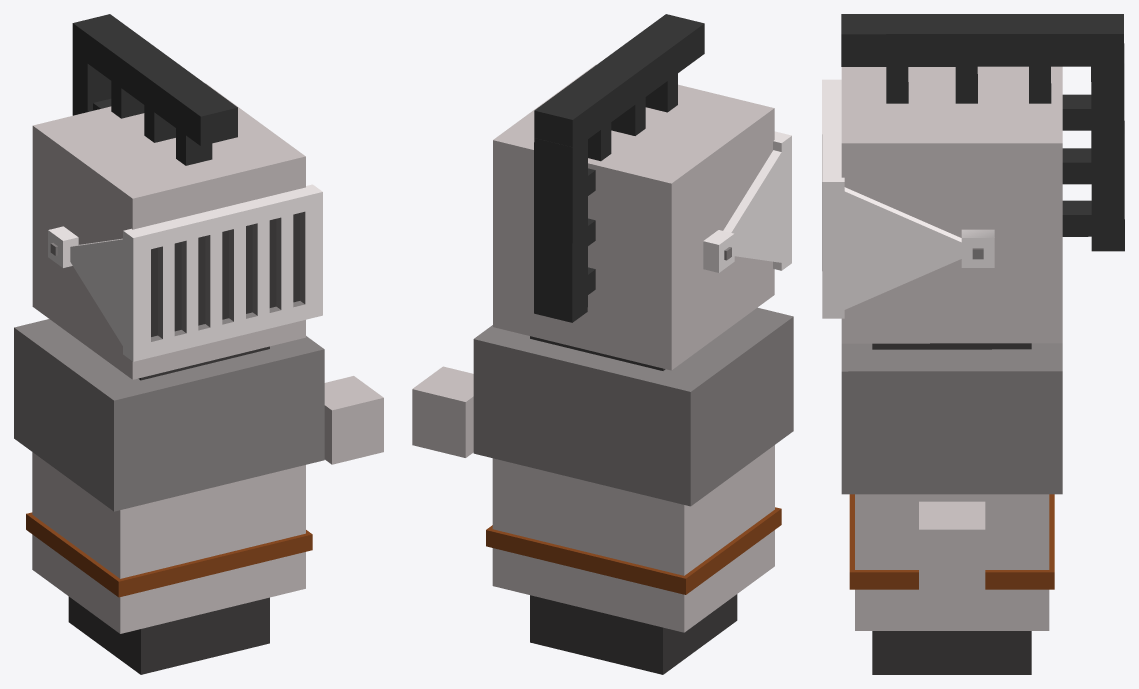
Rendered from hito.obj.
3 views of the same model, side by side, from view 1: azimuth 30°, elevation 25°; view 2: azimuth 150°, elevation 25°; view 3: azimuth 270°, elevation 25° (orthographic). The views are drawn at different scales.
Parts seen in each view (by area): view 1: 立方体.009_立方体.016, 立方体.001, 立方体, 立方体.002_立方体.010, 立方体.008_立方体.009, Cube.001, 立方体.007_立方体.015, 立方体.011_立方体.018, 立方体.003_立方体.011, 立方体.005_立方体.013; view 2: 立方体.001, 立方体.009_立方体.016, 立方体, 立方体.008_立方体.009, Cube.001, 立方体.007_立方体.015, 立方体.011_立方体.018, 立方体.003_立方体.011, 立方体.002_立方体.010, 立方体.005_立方体.013; view 3: 立方体.001, 立方体.009_立方体.016, 立方体.008_立方体.009, 立方体, 立方体.004_立方体.012, Cube.001, 立方体.011_立方体.018, 立方体.002_立方体.010, 立方体.007_立方体.015, 立方体.005_立方体.013.
Boxes of the visible parts, x1,y1,x2,y2 form: 立方体.009_立方体.016: [14, 319, 324, 511]; 立方体.001: [32, 83, 305, 379]; 立方体: [32, 452, 305, 633]; 立方体.002_立方体.010: [123, 184, 322, 361]; 立方体.008_立方体.009: [72, 14, 237, 165]; Cube.001: [68, 346, 269, 674]; 立方体.007_立方体.015: [26, 512, 312, 597]; 立方体.011_立方体.018: [324, 376, 383, 464]; 立方体.003_立方体.011: [70, 238, 122, 345]; 立方体.005_立方体.013: [48, 226, 78, 267]; 立方体.001: [493, 64, 774, 370]; 立方体.009_立方体.016: [473, 307, 793, 506]; 立方体: [492, 445, 774, 632]; 立方体.008_立方体.009: [534, 14, 704, 322]; Cube.001: [530, 336, 737, 674]; 立方体.007_立方体.015: [486, 507, 781, 594]; 立方体.011_立方体.018: [412, 366, 473, 457]; 立方体.003_立方体.011: [723, 150, 781, 262]; 立方体.002_立方体.010: [773, 131, 791, 270]; 立方体.005_立方体.013: [703, 230, 734, 272]; 立方体.001: [841, 66, 1062, 343]; 立方体.009_立方体.016: [841, 343, 1062, 494]; 立方体.008_立方体.009: [841, 14, 1124, 251]; 立方体: [855, 494, 1049, 630]; 立方体.004_立方体.012: [844, 187, 961, 309]; Cube.001: [872, 343, 1031, 674]; 立方体.011_立方体.018: [919, 501, 985, 589]; 立方体.002_立方体.010: [822, 79, 844, 318]; 立方体.007_立方体.015: [849, 494, 1054, 589]; 立方体.005_立方体.013: [961, 229, 994, 267].
Bounding box in the file's own units: 3.52 × 6.15 × 2.74.
